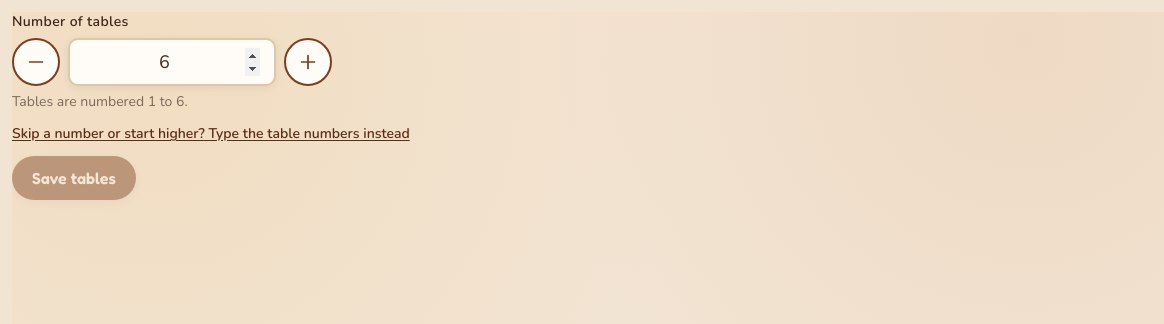
Test: TableListEditor › says when a save fails, and keeps the owner's edit
This screenshot has width=1164, height=324.
Click the button named "One table more" at [308, 62], box top-left (284, 38), bottom-right (332, 86)
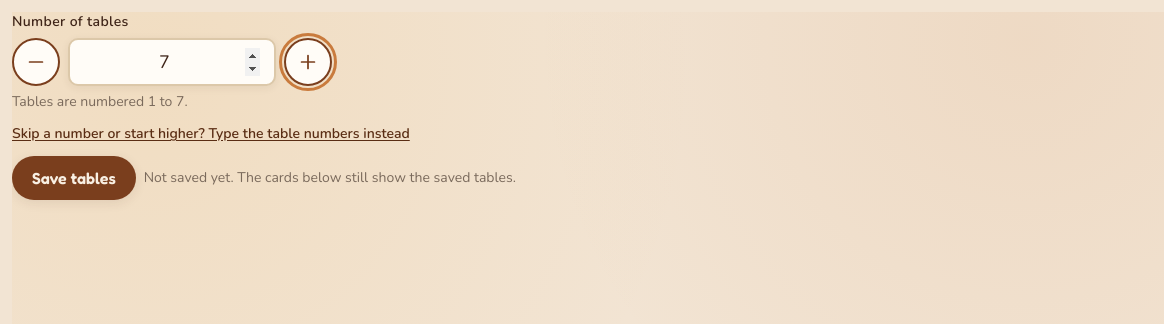
Click the button "Save tables" at [74, 178], box top-left (12, 156), bottom-right (136, 200)
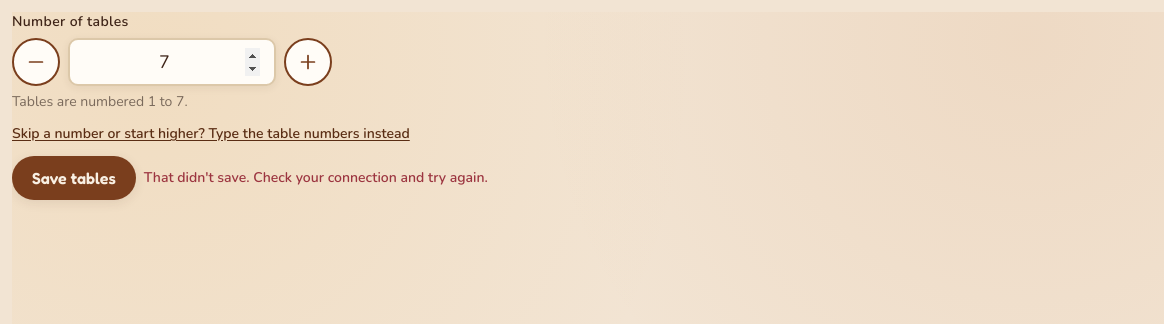
Now the number field labelled "Number of tables" holds "7", box top-left (68, 38), bottom-right (276, 86)
Now the message shows "didn't save", box top-left (144, 168), bottom-right (488, 187)
